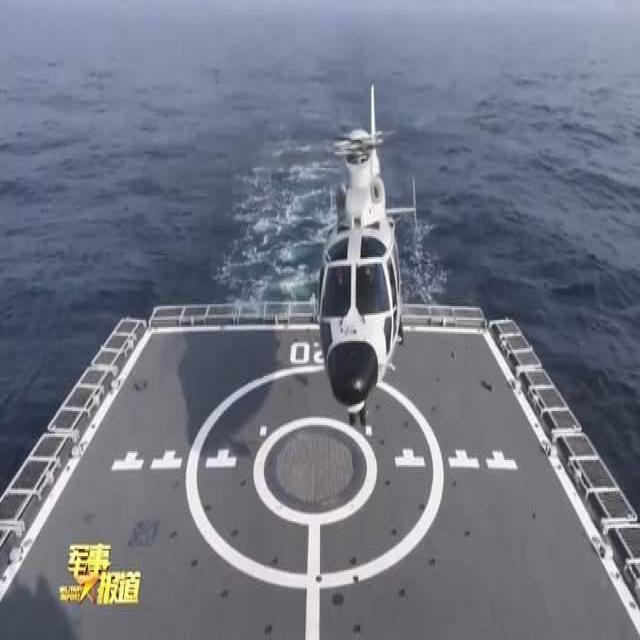MIL_HELO: (244, 81, 472, 431)
